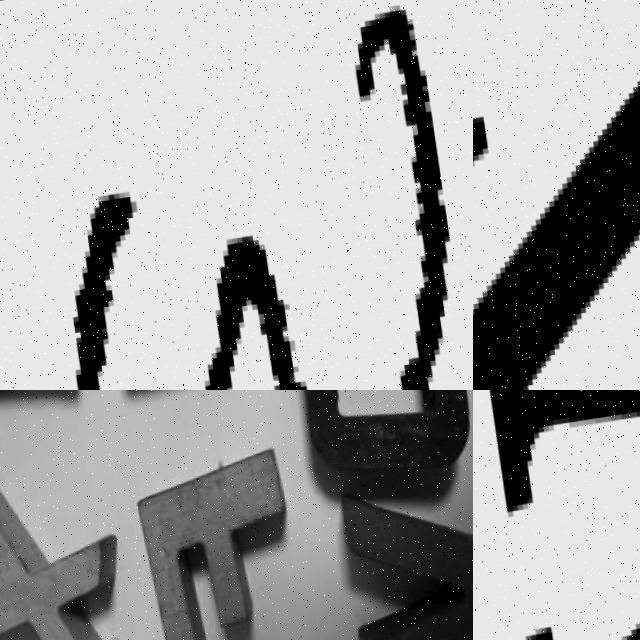3: (6, 0, 473, 390)
F: (128, 458, 300, 640)
O: (289, 390, 473, 495)
V: (332, 479, 473, 640)
X: (0, 464, 137, 640)
Z: (473, 0, 640, 390)
